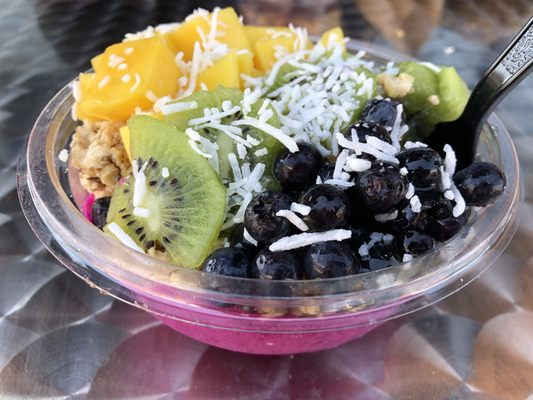sushi: (8, 4, 525, 358)
